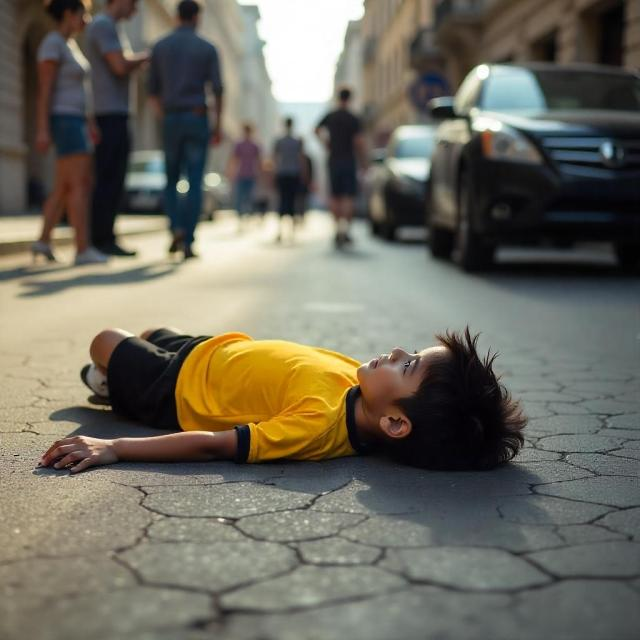injury: (349, 339, 517, 471)
no injury: (38, 328, 527, 471)
